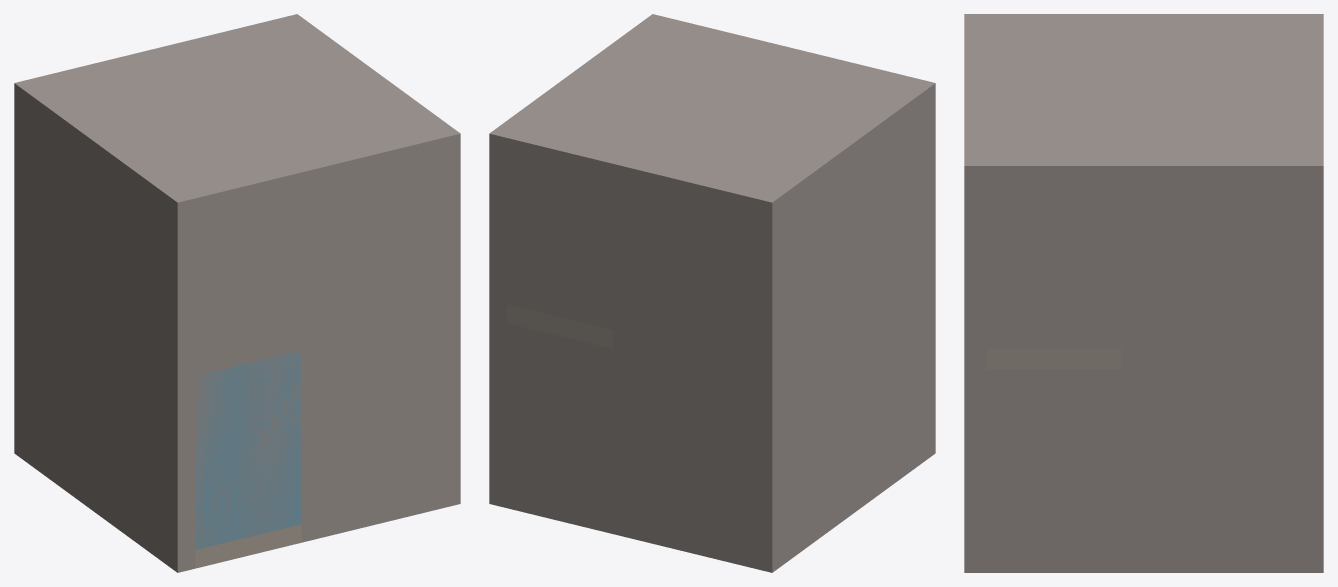
Rendered from rill-spring-mirror.glb.
3 views of the same model, side by side, from view 1: azimuth 30°, elevation 25°; view 2: azimuth 150°, elevation 25°; view 3: azimuth 270°, elevation 25° (orthographic). The views are drawn at different scales.
Visible parts, largest first — view 1: rock_20, rock_4, rock_6, rock_14, rock_16, plug_rill_south, plug_rill_south.001, water_4, water_1, water_2, rock_3, rock_5 (+8 smaller); view 2: rock_20, rock_1, rock_4, rock_11, rock_14, rock_7, plug_north, rock_3, rock_17, rock_2, rock_13, rock_12 (+1 smaller); view 3: rock_20, rock_2, rock_12, rock_10, plug_east, rock_18, rock_6, rock_16, cave-floor_8.
Boxes of the visible parts, x1,y1,x2,y2 form: rock_20: (14, 14, 460, 220); rock_4: (45, 272, 195, 572); rock_6: (319, 300, 460, 538); rock_14: (45, 124, 195, 369); rock_16: (319, 152, 460, 334); plug_rill_south: (195, 209, 301, 364); plug_rill_south.001: (195, 339, 301, 549); water_4: (266, 350, 301, 532); water_1: (230, 359, 265, 541); water_2: (195, 367, 230, 549); rock_3: (24, 257, 44, 475); rock_5: (301, 335, 319, 542); rock_20: (489, 14, 935, 220); rock_1: (613, 330, 782, 572); rock_4: (803, 250, 935, 550); rock_11: (613, 182, 782, 369); rock_14: (803, 102, 935, 346); rock_7: (507, 323, 612, 533); plug_north: (507, 193, 612, 330); rock_3: (782, 347, 802, 564); rock_17: (507, 156, 612, 219); rock_2: (489, 300, 506, 507); rock_13: (782, 199, 802, 361); rock_12: (489, 152, 506, 304); rock_20: (964, 14, 1323, 186); rock_2: (1121, 349, 1323, 572); rock_12: (1121, 186, 1323, 348); rock_10: (986, 369, 1121, 572); plug_east: (986, 227, 1121, 348); rock_18: (986, 186, 1121, 226); rock_6: (964, 349, 986, 572); rock_16: (964, 186, 986, 348); cave-floor_8: (986, 349, 1121, 369).
Size of the model in its own units: 8 by 10 by 8.
